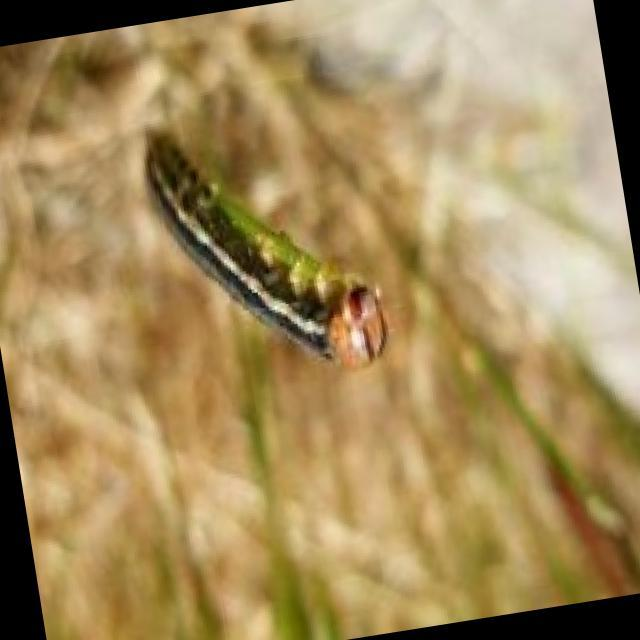Plaga: (120, 88, 399, 410)
